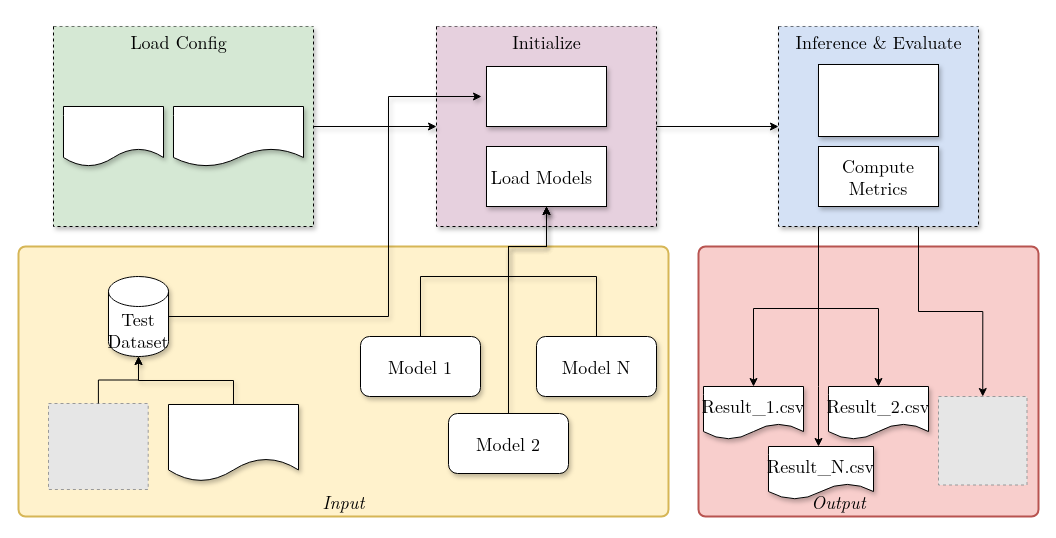
This 1056x538 diagram has some shape labels left out. Grey dashed boxes stand in for pictures. The shapes that lost their labels are listed below. From the top down, each one's centre as x and y in pixels, then its label:
the point at 547,98: Load Dataset
the point at 879,102: Run Inference & Save Predictions
the point at 114,138: prompts.json
the point at 239,138: eval_config.json
the point at 234,444: annotations.json
